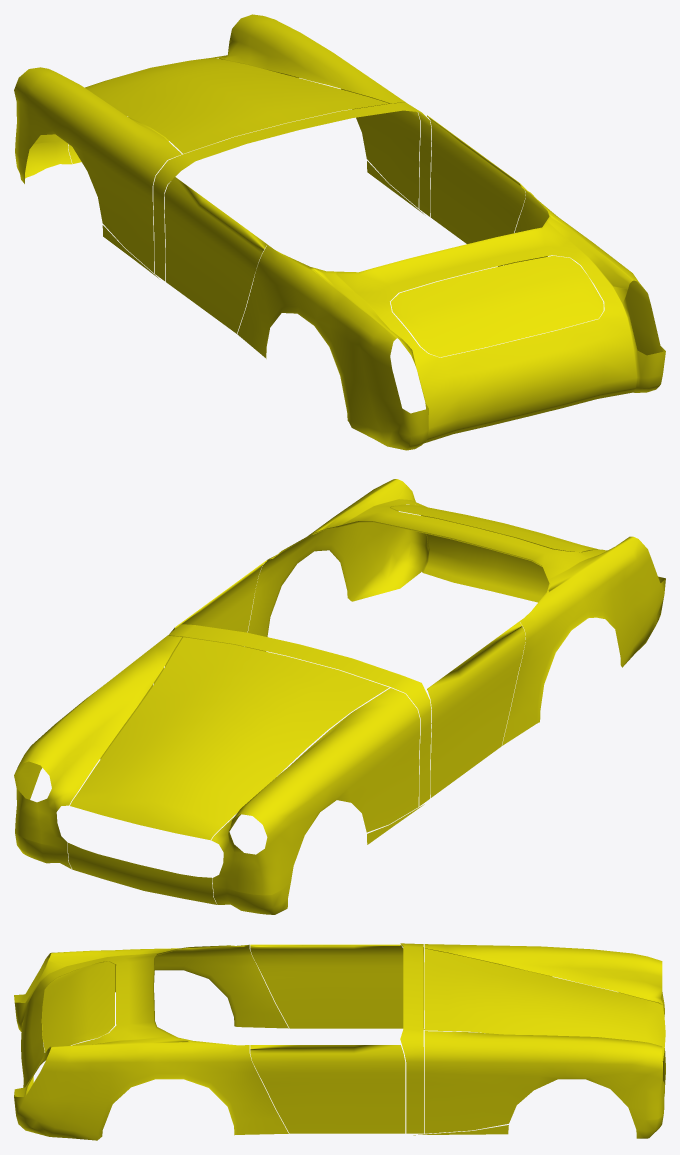
Rendered from MG_Body.dae.
3 renders of one model, top to bottom at view 1: azimuth 30°, elevation 25°; view 2: azimuth 150°, elevation 25°; view 3: azimuth 270°, elevation 25°, orthographic. The views are drawn at different scales.
Parts seen in each view (by area): view 1: body; view 2: body; view 3: body.
Boxes of the visible parts, box(x1,y1,x2,y2) form: body: box(14, 14, 665, 450); body: box(14, 479, 665, 914); body: box(14, 943, 665, 1140).
Bounding box in the file's own units: 2.06 × 5.19 × 0.9482.
